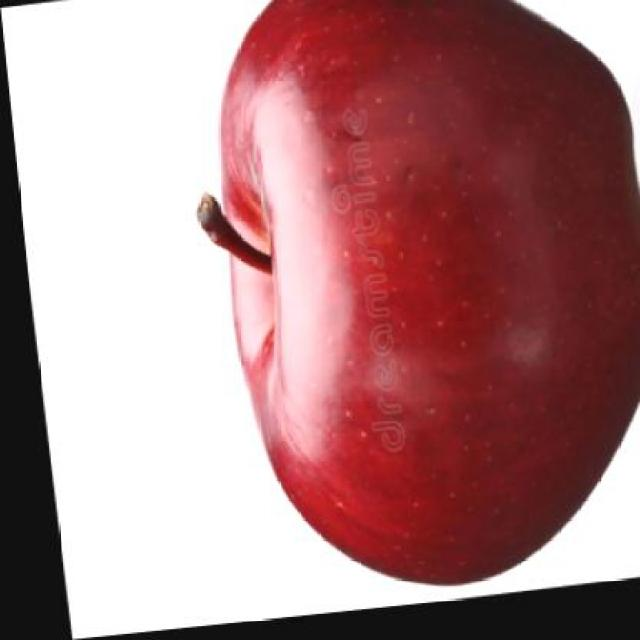Fresh Apple: (217, 0, 640, 588)
